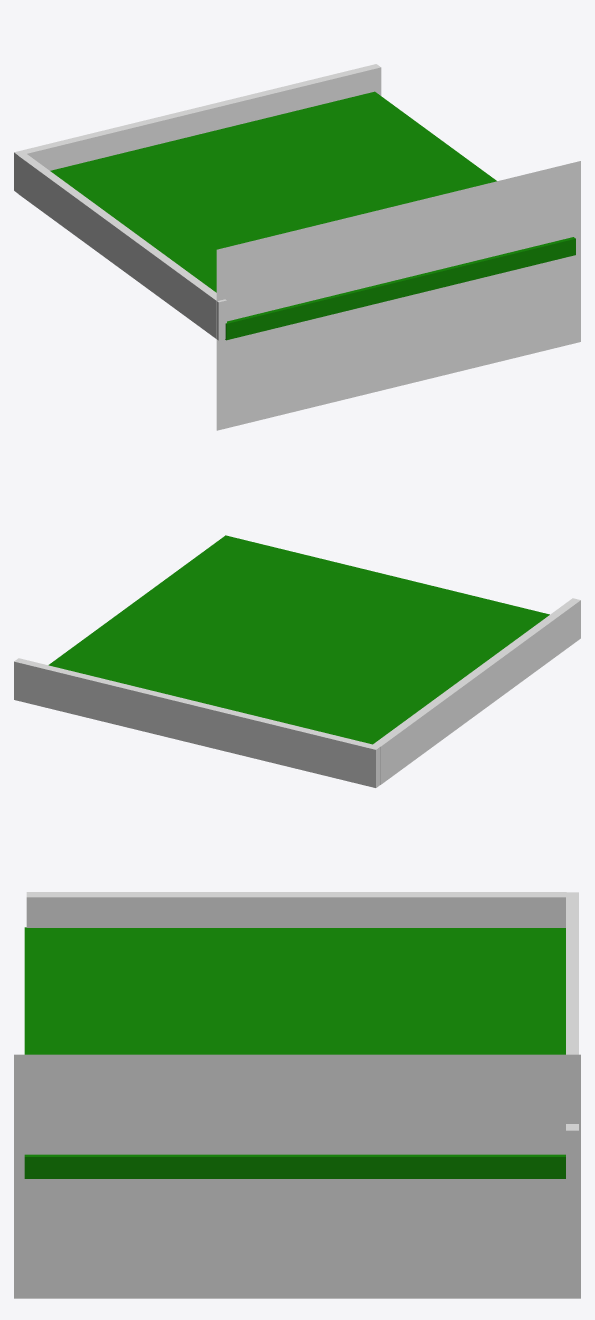
File: hard_bend.glb
3 views of the same model, one above another, from view 1: azimuth 30°, elevation 25°; view 2: azimuth 150°, elevation 25°; view 3: azimuth 270°, elevation 25° (orthographic). The views are drawn at different scales.
Parts seen in each view (by area): view 1: obj_snap, Cube, Cube.004, Cube.001; view 2: Cube, Cube.004, Cube.001; view 3: obj_snap.003, Cube, Cube.001, Cube.004.
Boxes of the visible parts, left/top/right/bottom form: obj_snap: left=216, top=161, right=580, bottom=430; Cube: left=50, top=91, right=575, bottom=340; Cube.004: left=14, top=64, right=381, bottom=193; Cube.001: left=18, top=154, right=226, bottom=340; Cube: left=48, top=535, right=549, bottom=744; Cube.004: left=14, top=658, right=380, bottom=787; Cube.001: left=373, top=598, right=580, bottom=784; obj_snap.003: left=14, top=1054, right=580, bottom=1298; Cube: left=24, top=927, right=565, bottom=1178; Cube.001: left=26, top=892, right=566, bottom=927; Cube.004: left=566, top=892, right=578, bottom=1182.
Bounding box in the file's own units: 4.21 × 2 × 4.21.
